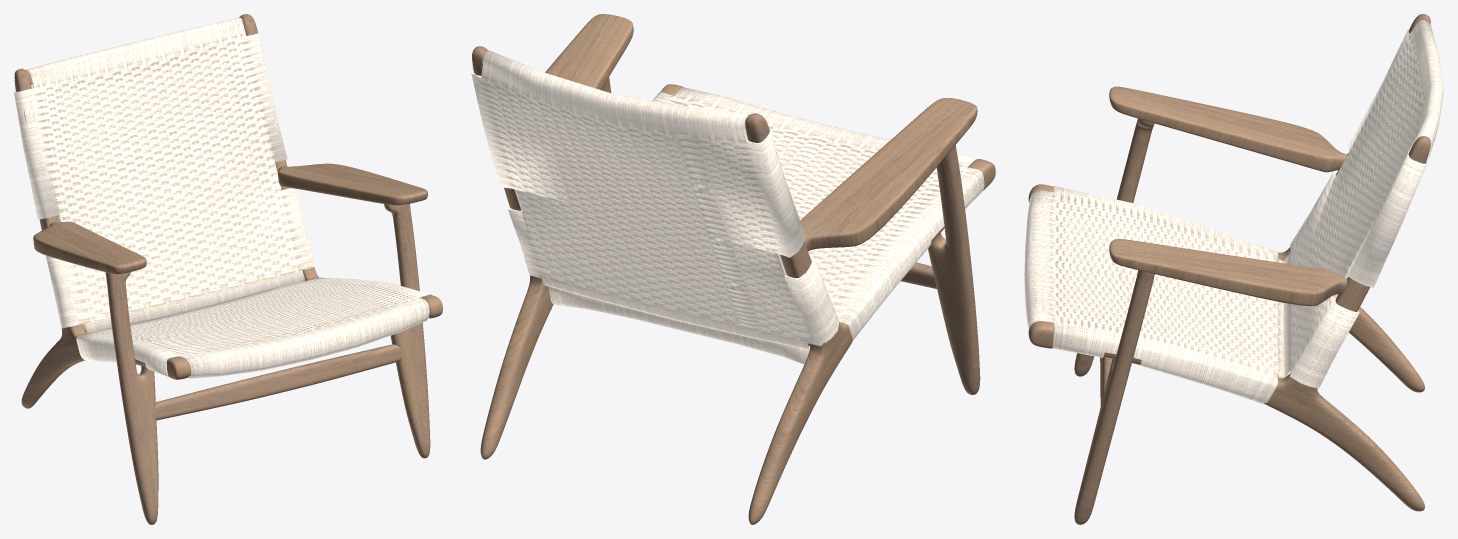
3 views of the same model, side by side, from view 1: azimuth 30°, elevation 25°; view 2: azimuth 150°, elevation 25°; view 3: azimuth 270°, elevation 25° (orthographic). The views are drawn at different scales.
Visible parts, largest first — view 1: ch25.002; view 2: ch25.002; view 3: ch25.002.
Boxes of the visible parts, <box> form: ch25.002: <box>14,14,442,524</box>; ch25.002: <box>471,14,995,524</box>; ch25.002: <box>1024,14,1443,524</box>.
Bounding box in the file's own units: 70.97 × 72.77 × 73.57.
5 materials, 4 textured.
